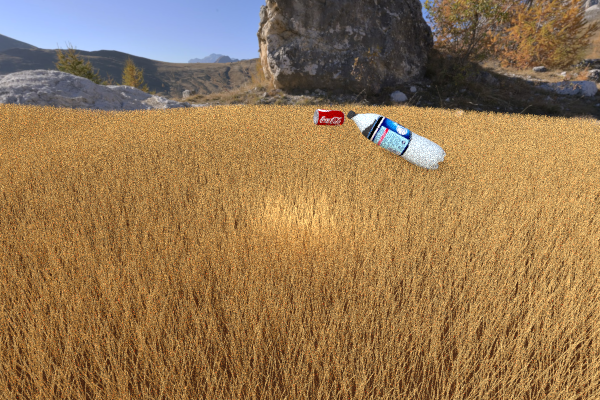bottle: (346, 110, 445, 170)
can: (313, 108, 344, 126)
